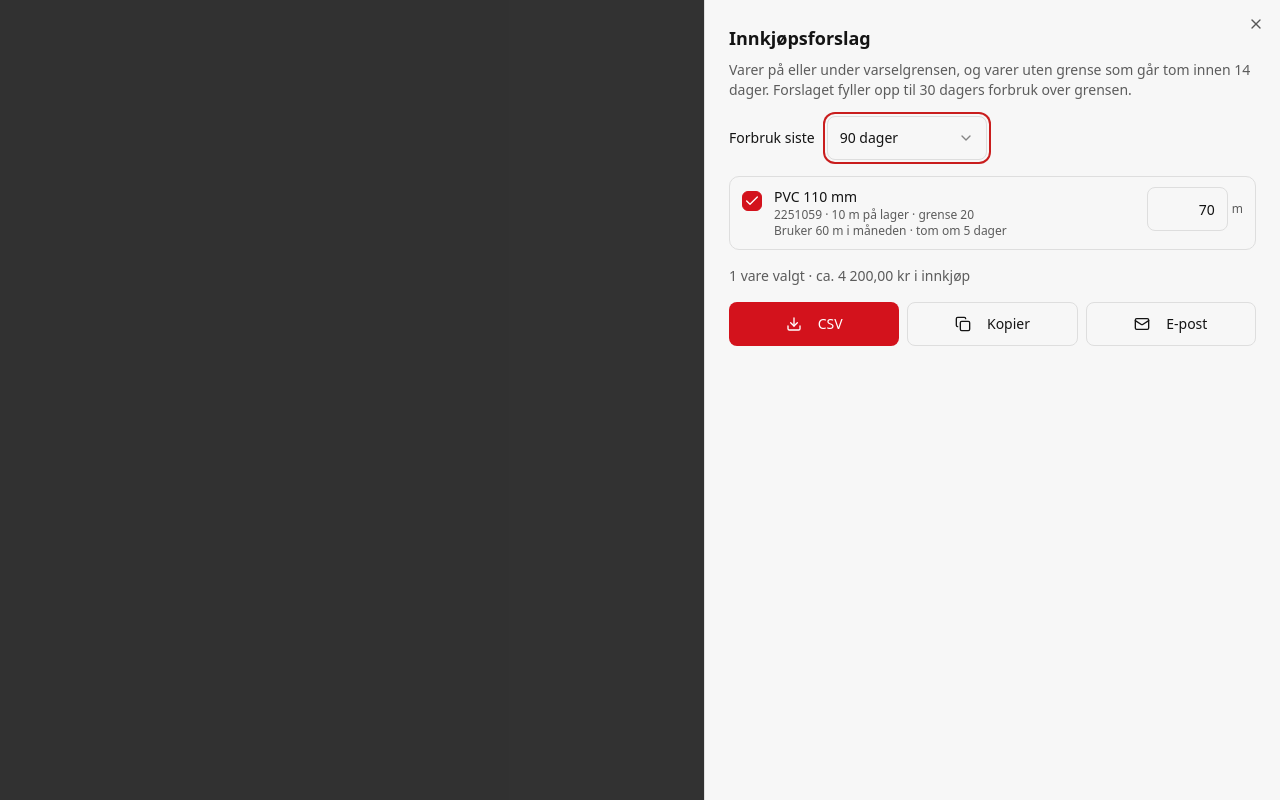
Test: innkjøpsforslaget › viser forslaget med antal, og tel det som er kryssa av
The image size is (1280, 800).
Check: the field showing "70" is shown, box 1147,187 -> 1228,231
Check: the text "1 vare valgt · ca. 4 200,00 kr i innkjøp" is shown, box 729,266 -> 970,285
Step 1. Click the checkbox named "Ta med PVC 110 mm" → (752, 201), box 742,191 -> 762,211
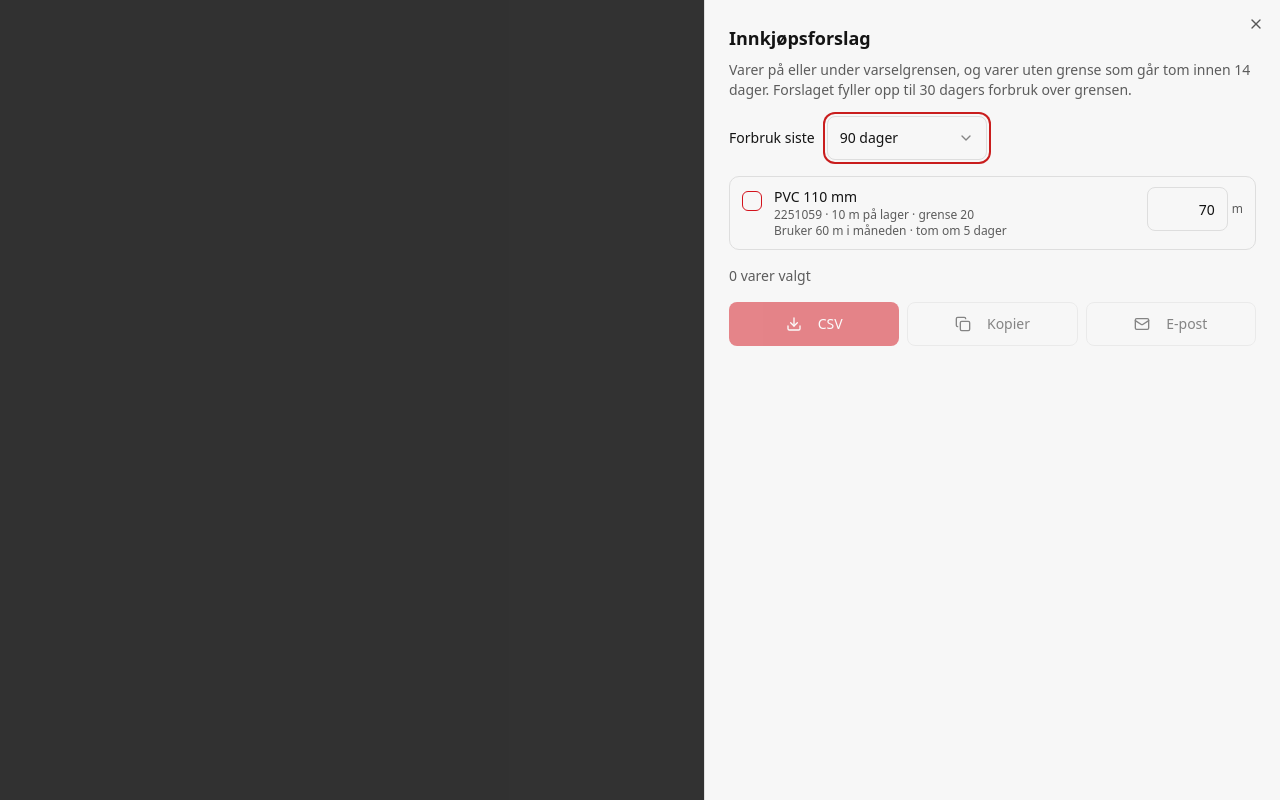
Check: the text "0 varer valgt" is shown, box 729,266 -> 811,285
Check: the button "CSV" is disabled, box 729,302 -> 899,346
